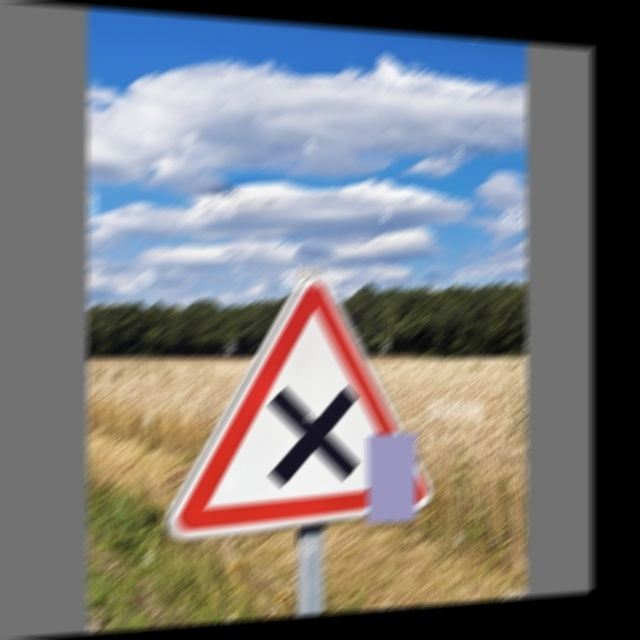Cross_Road: (180, 276, 431, 538)
